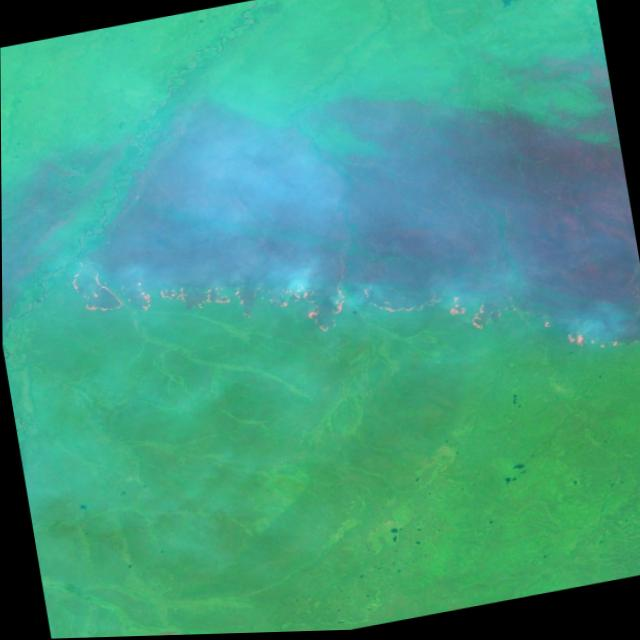fire: (62, 166, 640, 449)
